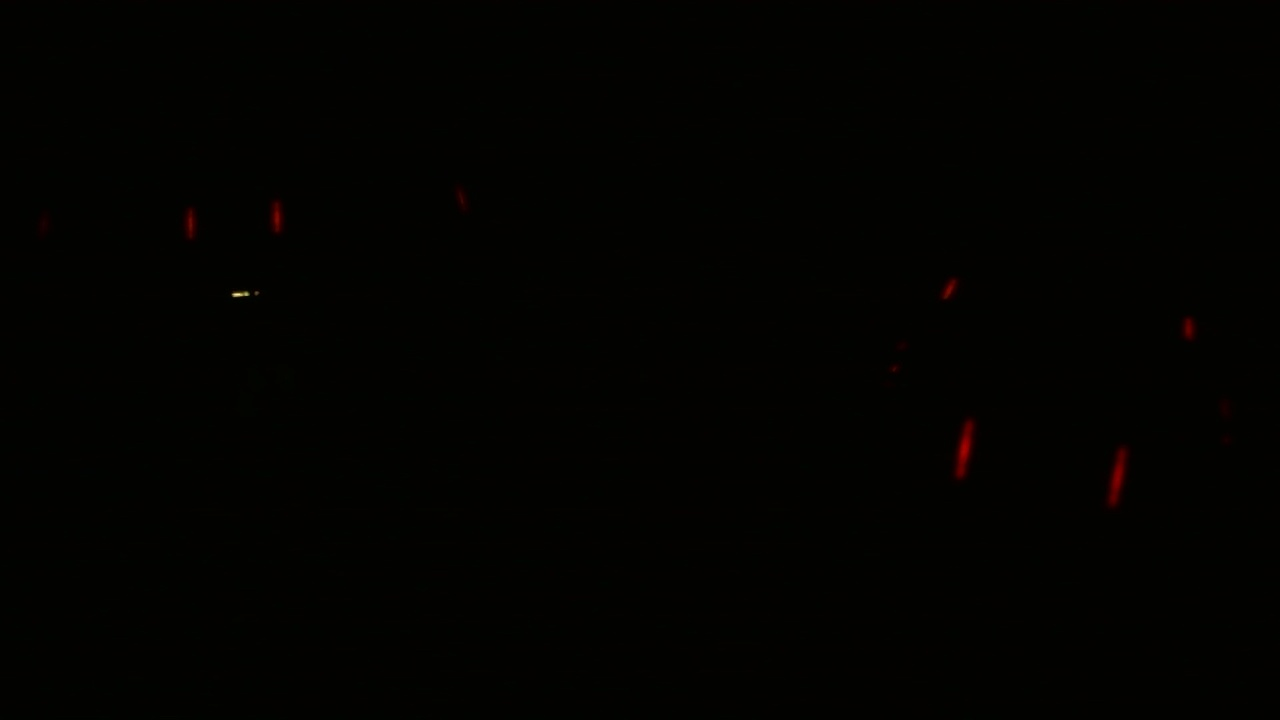pair1: (954, 413, 1129, 508), (182, 198, 286, 236)
